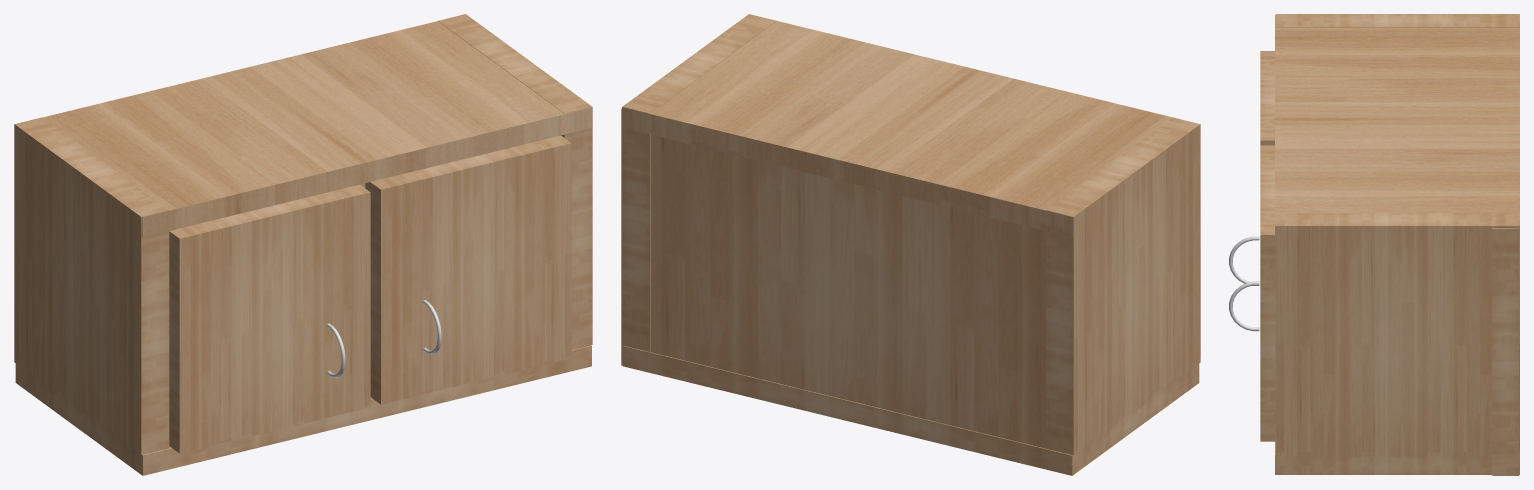
The model's file is Wooden Lab Cabinet.fbx.
The picture shows the model from 3 angles, left to right: view 1: azimuth 30°, elevation 25°; view 2: azimuth 150°, elevation 25°; view 3: azimuth 270°, elevation 25°; orthographic projection. The views are drawn at different scales.
Parts seen in each view (by area): view 1: Box004, Box008, Box009, Box001, Box003, Box002; view 2: Box005, Box004, Box001, Box003, Box002; view 3: Box002, Box004, Box005, Box008, Box003, Box001, Box009, Torus002, Torus001.
Boxes of the visible parts, x1,y1,x2,y2 form: Box004: [43, 21, 591, 237]; Box008: [365, 135, 571, 404]; Box009: [169, 184, 370, 453]; Box001: [14, 117, 169, 454]; Box003: [15, 345, 591, 475]; Box002: [438, 14, 592, 349]; Box005: [621, 108, 1072, 455]; Box004: [623, 21, 1171, 237]; Box001: [1045, 117, 1200, 455]; Box003: [623, 345, 1199, 475]; Box002: [622, 14, 776, 351]; Box002: [1275, 213, 1519, 455]; Box004: [1275, 15, 1519, 245]; Box005: [1492, 228, 1518, 475]; Box008: [1260, 145, 1275, 441]; Box003: [1275, 441, 1519, 474]; Box001: [1275, 14, 1519, 27]; Box009: [1260, 51, 1274, 145]; Torus002: [1229, 281, 1259, 331]; Torus001: [1229, 236, 1259, 285].
Bounding box in the file's own units: 72.86 × 39.88 × 42.16.
Materials: 1 (1 with a texture image).
